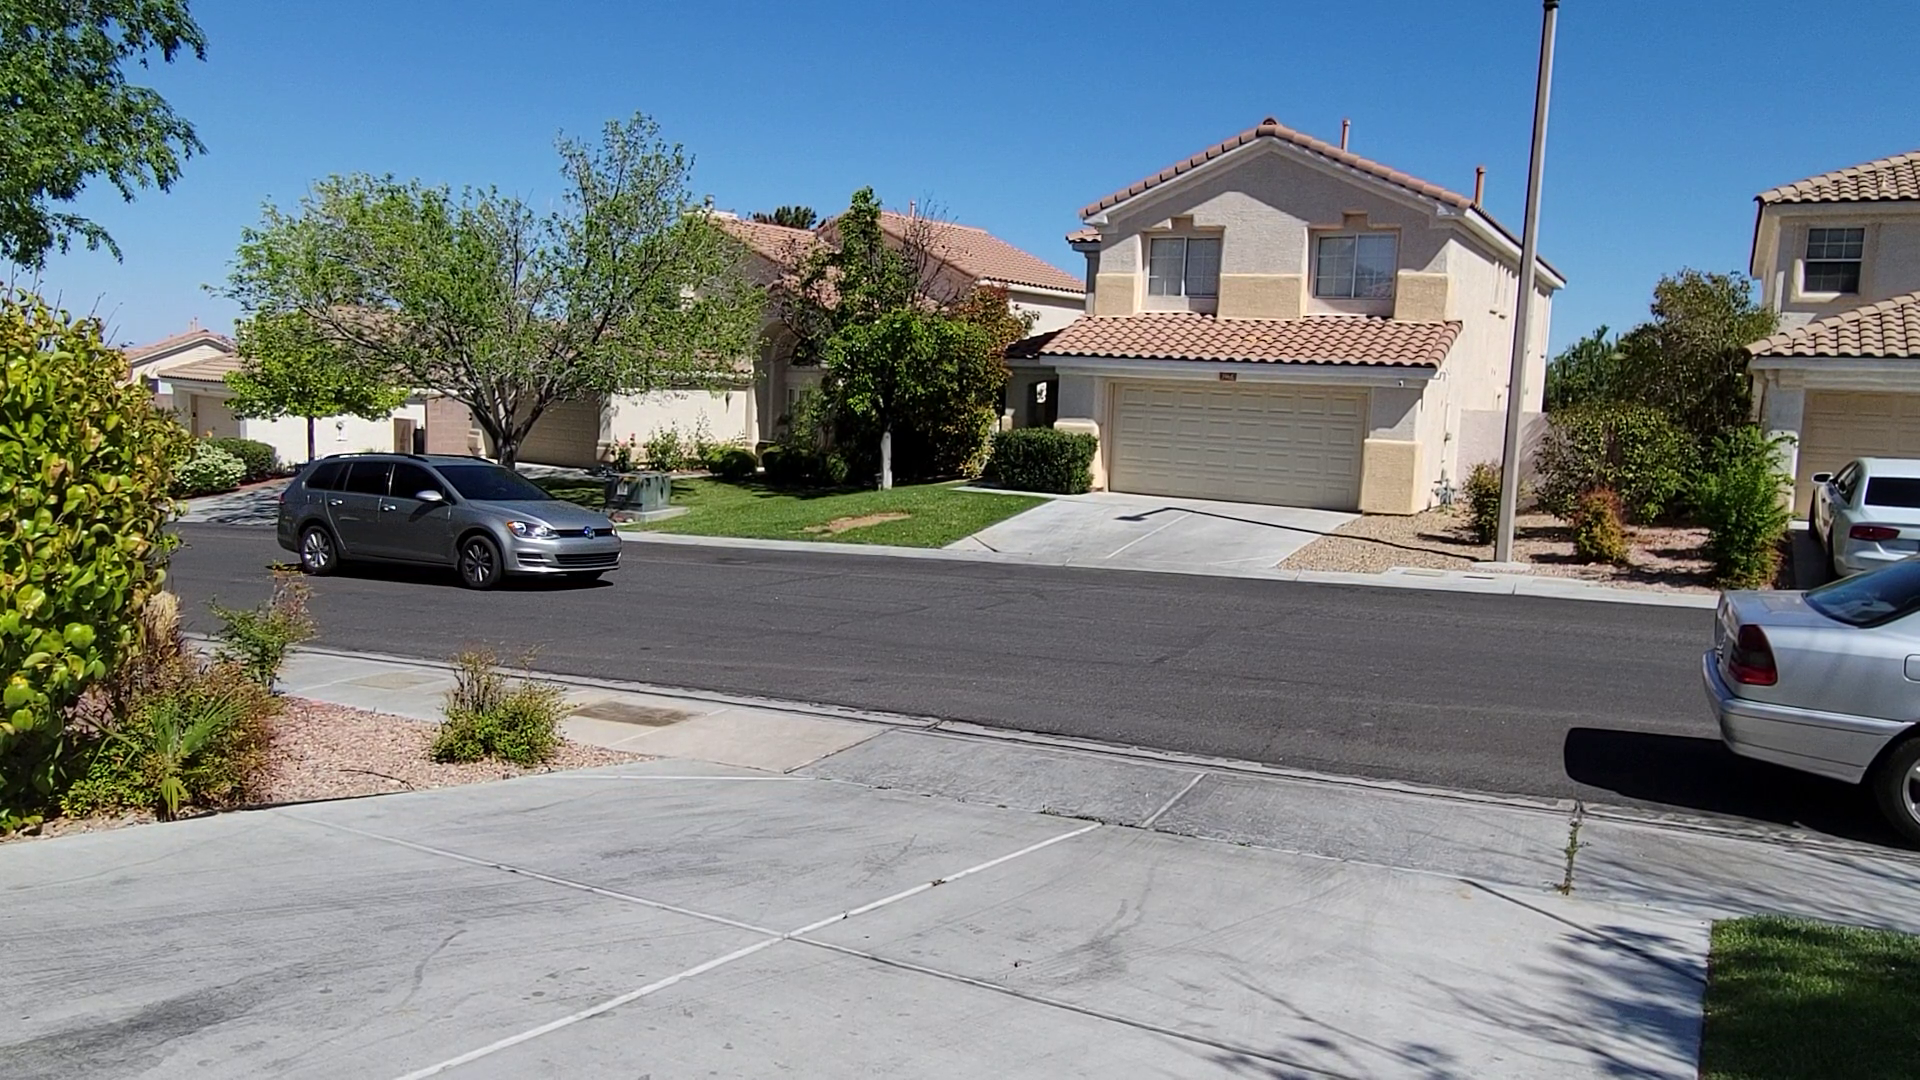car: (273, 448, 625, 593)
